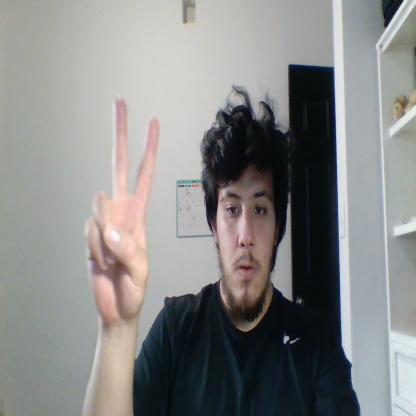V: (84, 95, 160, 326)
